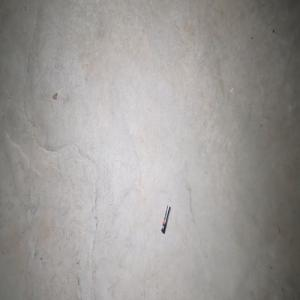Battery: (161, 204, 171, 234)
